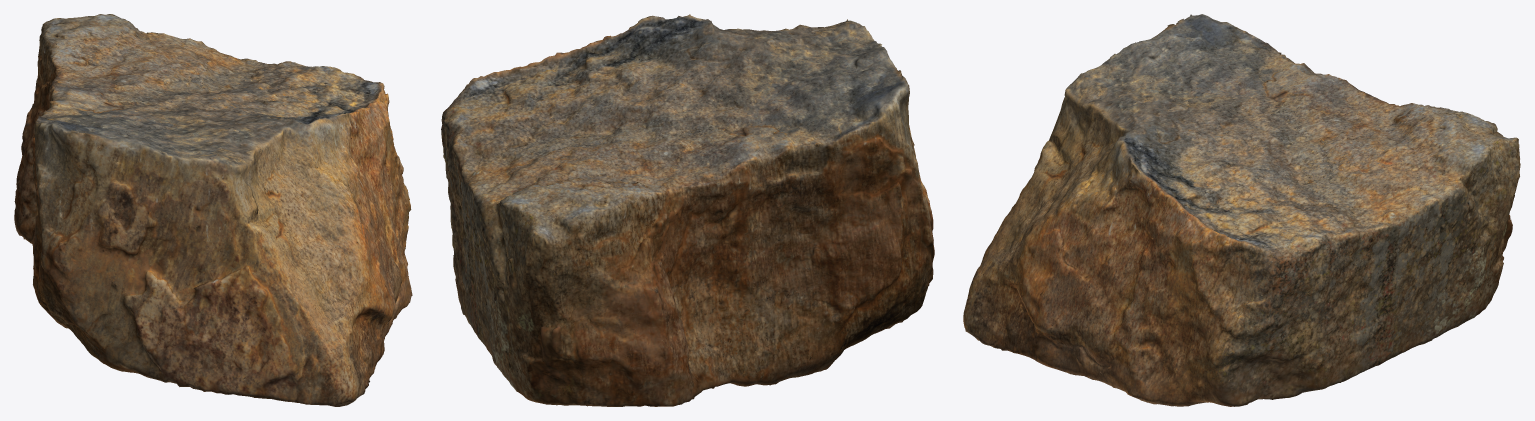
Rendered from rock0.obj.
3 renders of one model, left to right at view 1: azimuth 30°, elevation 25°; view 2: azimuth 150°, elevation 25°; view 3: azimuth 270°, elevation 25°, orthographic. The views are drawn at different scales.
Visible parts, largest first — view 1: namaqualand_boulder_03_LOD0; view 2: namaqualand_boulder_03_LOD0; view 3: namaqualand_boulder_03_LOD0.
Part boxes in pixels (bbox=[...]): namaqualand_boulder_03_LOD0: bbox=[14, 14, 412, 406]; namaqualand_boulder_03_LOD0: bbox=[441, 14, 934, 406]; namaqualand_boulder_03_LOD0: bbox=[963, 14, 1520, 406].
Size of the model in its own units: 2.41 by 1.47 by 3.07.
